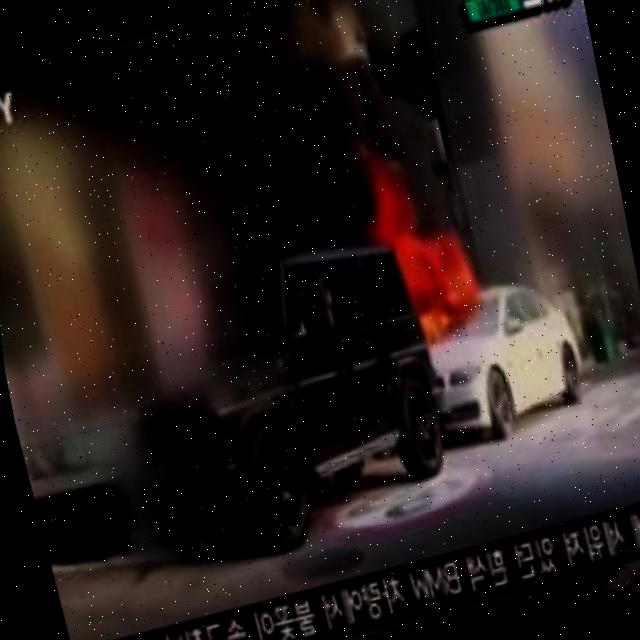fire: (331, 127, 492, 360)
